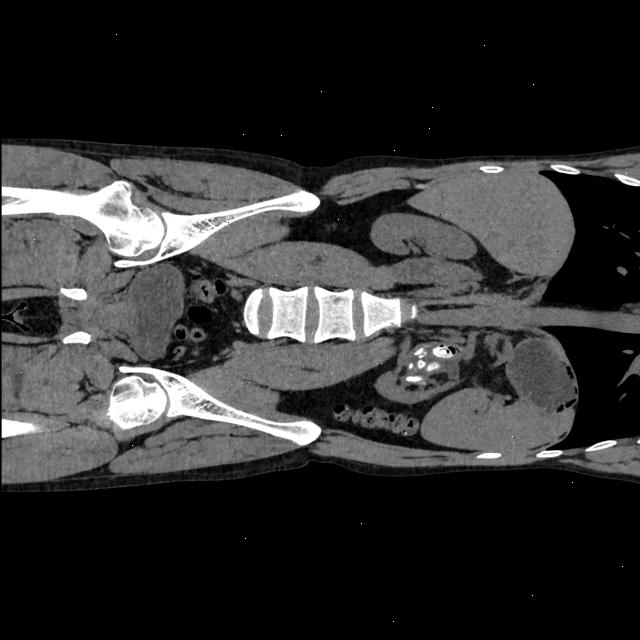kidneystone: (432, 345, 456, 359), (414, 348, 427, 369), (406, 376, 421, 382), (429, 362, 439, 370)
